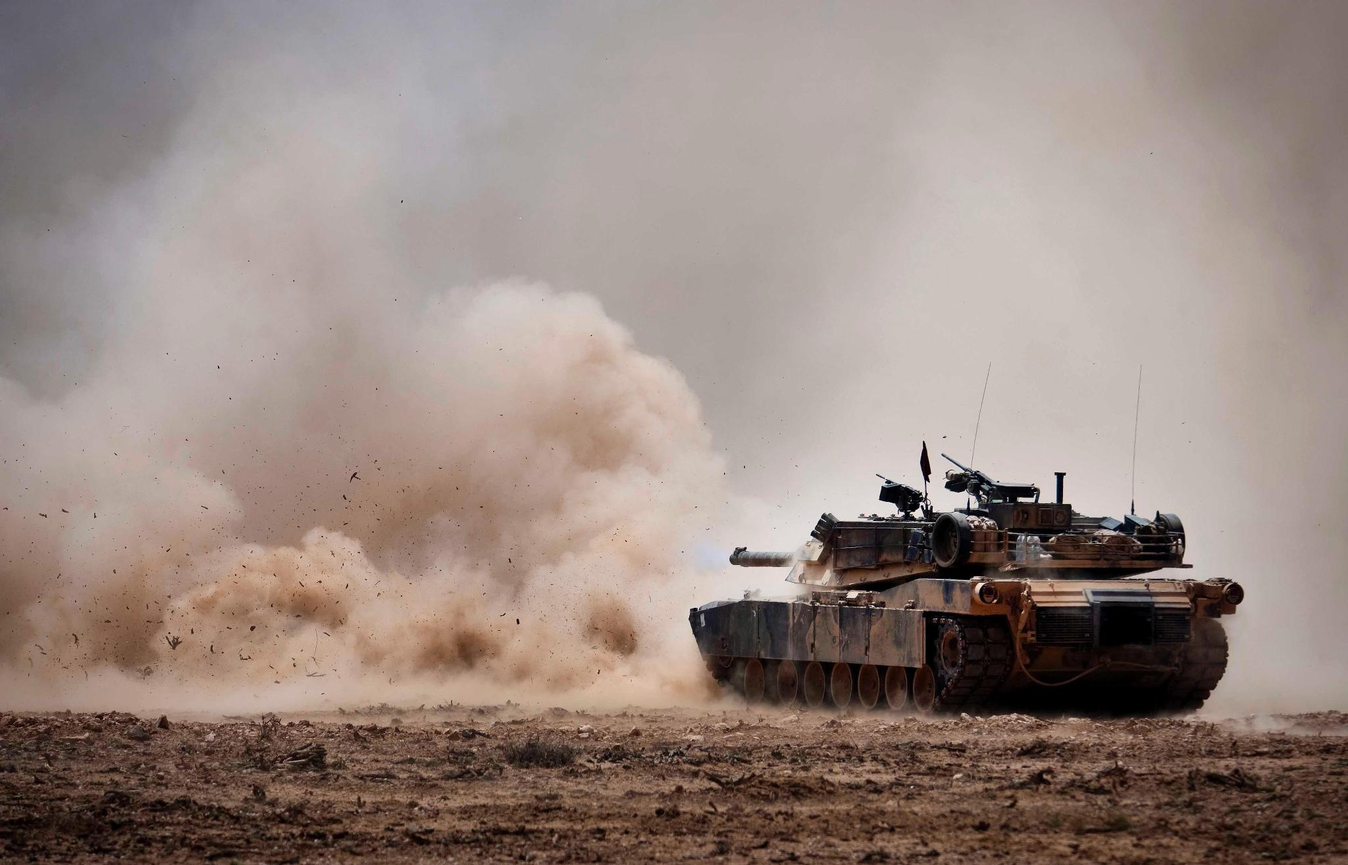tank: (687, 440, 1246, 722)
